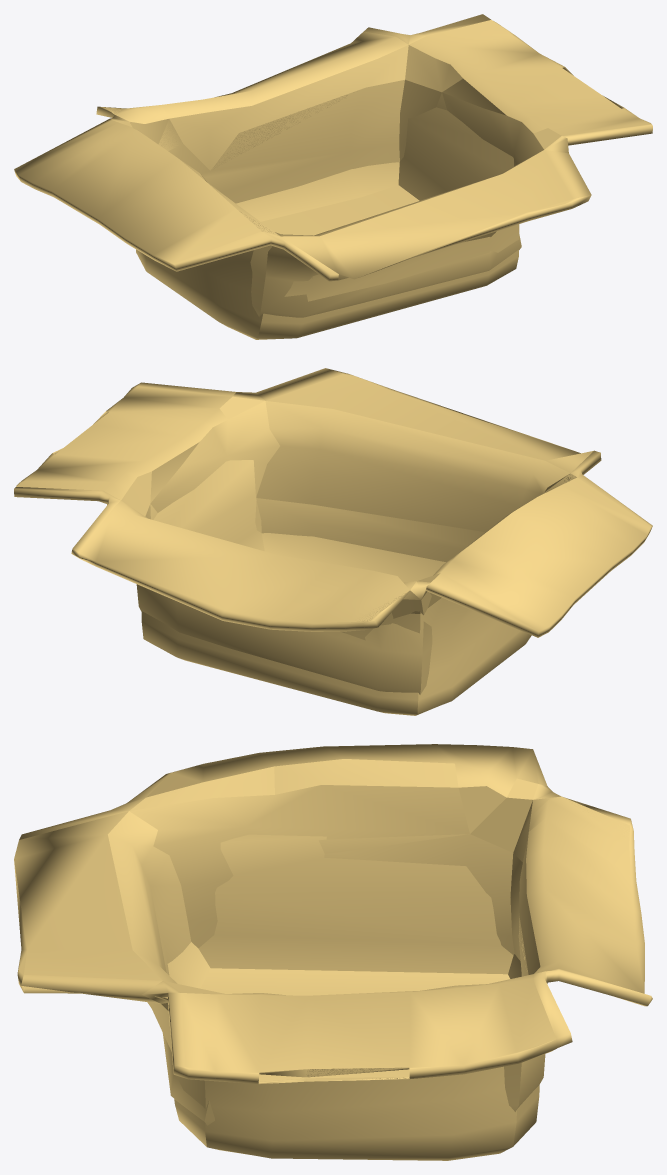
The model's file is Props_Box_Used_01.fbx.
3 views of the same model, one above another, from view 1: azimuth 30°, elevation 25°; view 2: azimuth 150°, elevation 25°; view 3: azimuth 270°, elevation 25° (orthographic). The views are drawn at different scales.
Parts seen in each view (by area): view 1: Props_Box_Used_01; view 2: Props_Box_Used_01; view 3: Props_Box_Used_01.
Part boxes in pixels (x1,y1,x2,y2): Props_Box_Used_01: [14, 14, 652, 339]; Props_Box_Used_01: [14, 368, 652, 715]; Props_Box_Used_01: [14, 744, 652, 1160].
Size of the model in its own units: 75.34 by 22.27 by 59.54.
